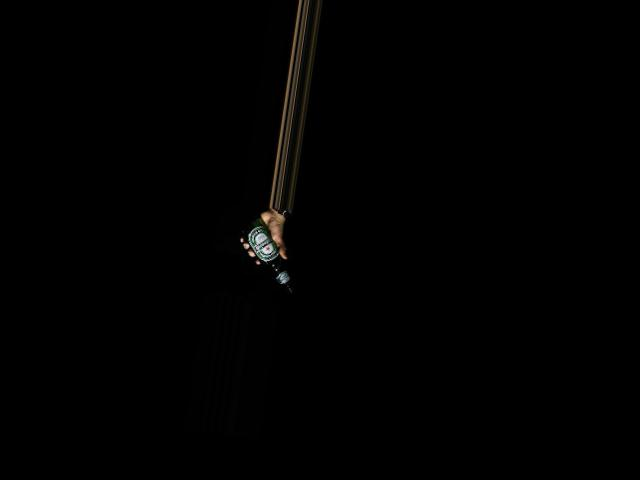beer: (231, 212, 305, 295)
